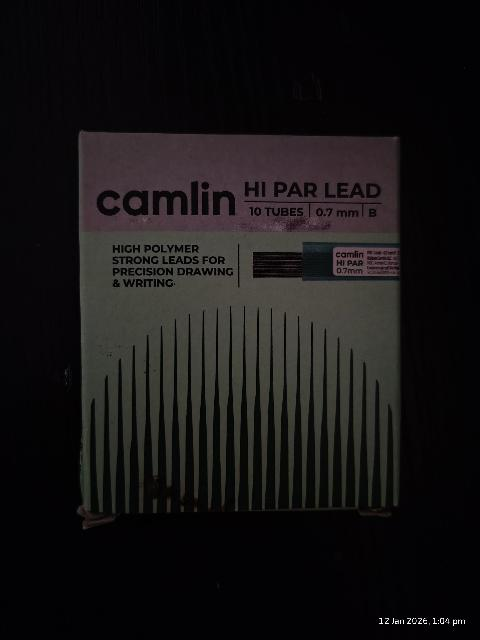camlin lids: (80, 133, 404, 528)
